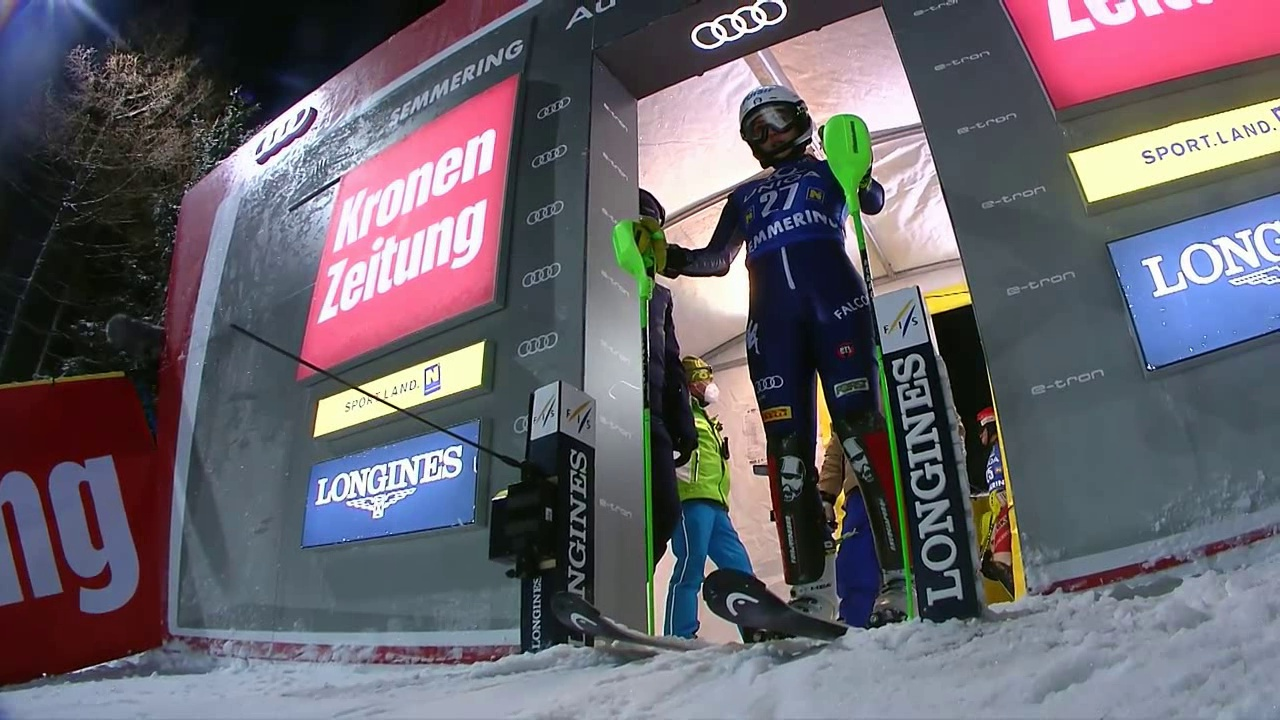audi: (688, 1, 788, 54), (508, 328, 567, 362), (516, 259, 574, 292), (520, 197, 576, 231), (529, 89, 579, 125), (903, 1, 974, 24), (525, 142, 577, 172), (754, 373, 788, 396)
etron: (1001, 269, 1078, 298), (974, 184, 1049, 211), (947, 110, 1023, 136), (927, 48, 999, 74)
kronenzeitung: (332, 140, 488, 322)
longines: (1144, 189, 1276, 334), (895, 318, 957, 600), (312, 439, 473, 542), (561, 450, 597, 616)
